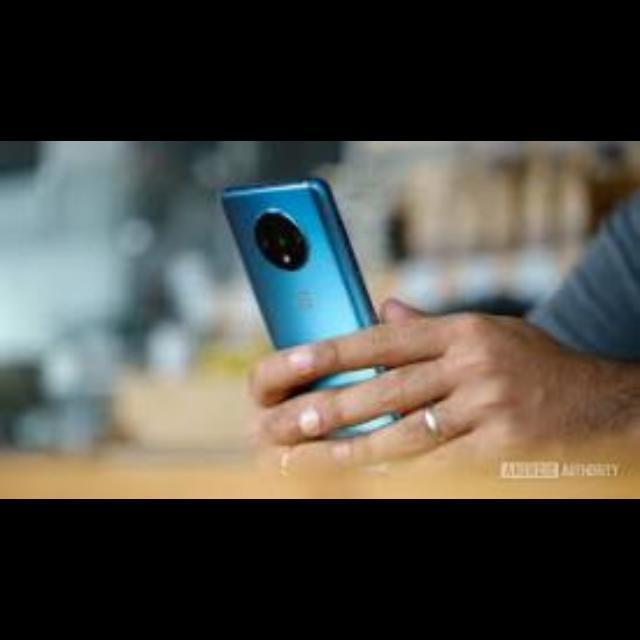PhoneUse: (217, 184, 426, 452)
